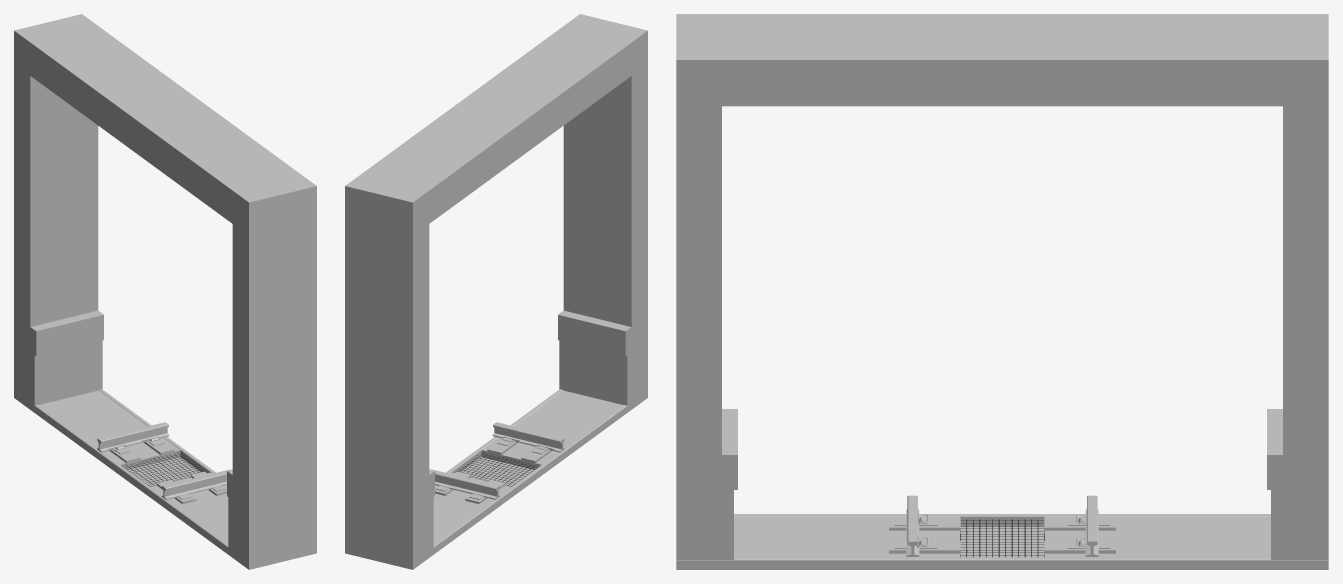
File: SM_Tunnel_A_1m.fbx
The picture shows the model from 3 angles, left to right: view 1: azimuth 30°, elevation 25°; view 2: azimuth 150°, elevation 25°; view 3: azimuth 270°, elevation 25°; orthographic projection. The views are drawn at different scales.
Visible parts, largest first — view 1: SM_Tunnel_A_1m; view 2: SM_Tunnel_A_1m; view 3: SM_Tunnel_A_1m.
Boxes of the visible parts, x1,y1,x2,y2 form: SM_Tunnel_A_1m: [14, 14, 316, 569]; SM_Tunnel_A_1m: [345, 14, 647, 569]; SM_Tunnel_A_1m: [676, 14, 1328, 569].
Bounding box in the file's own units: 100 × 517 × 600.
